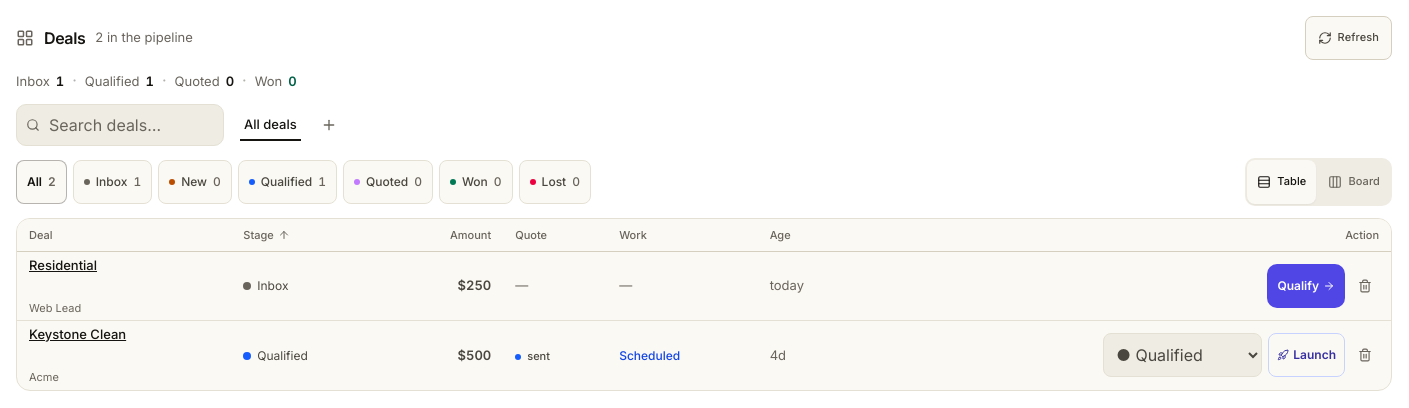
Test: Deals board › filters to a single stage via the chip row
The width and height of the screenshot is (1409, 408).
Note: Filter to Inbox — the deal row drops out.
Click the button "Inbox 1" at point(112, 182), box [73,160,152,204]
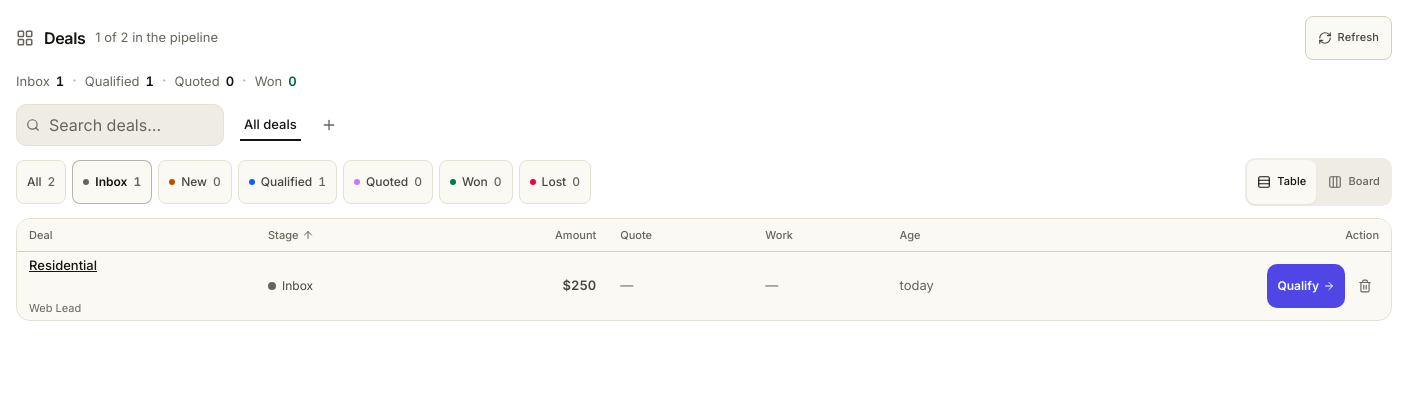
Expected: the link "Residential" is shown, [29,256,97,272]
Now the link "Keystone Clean" is gone
